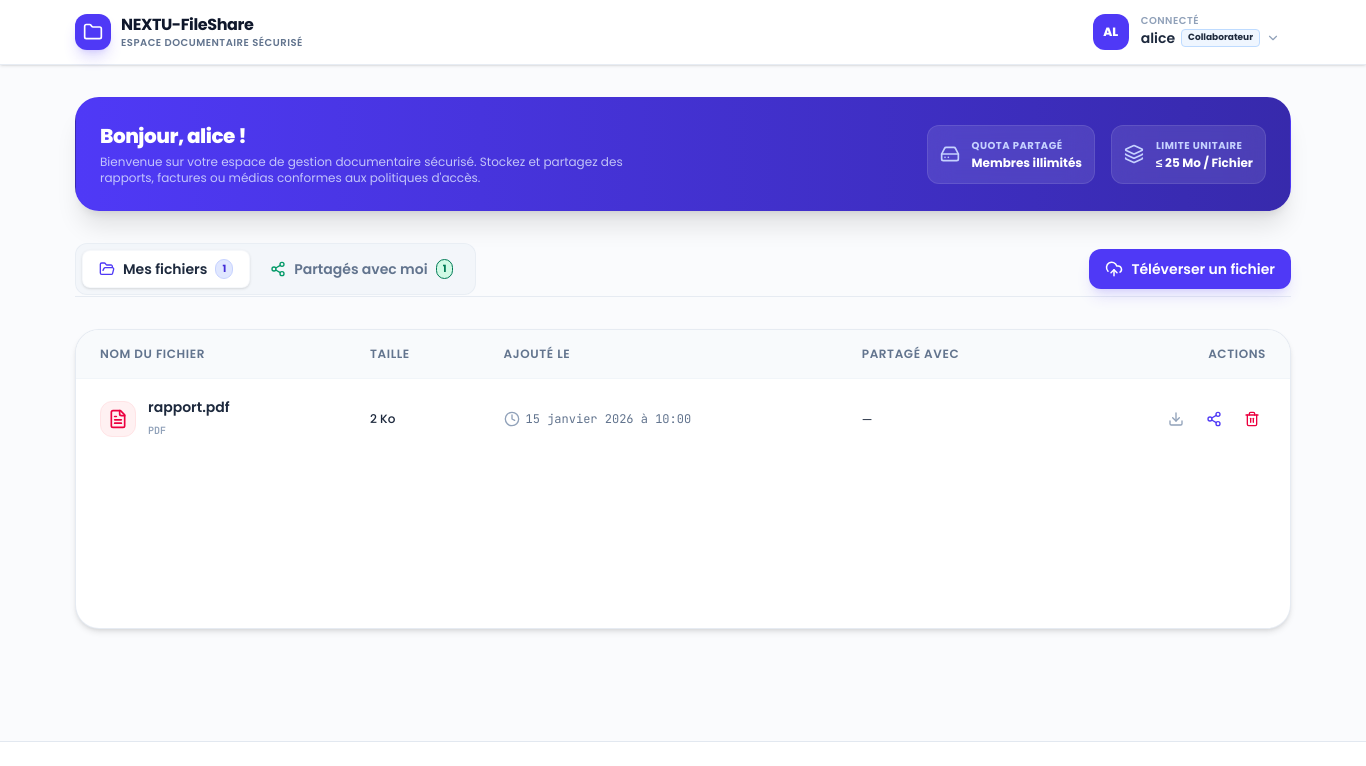
Scenario: Dashboard › switches to shared files tab
Check: the heading "Bonjour, alice !" is shown, box [100,122,246,150]
Click the button "Partagés avec moi 1" at coordinates (362, 269), box [254,250,469,288]
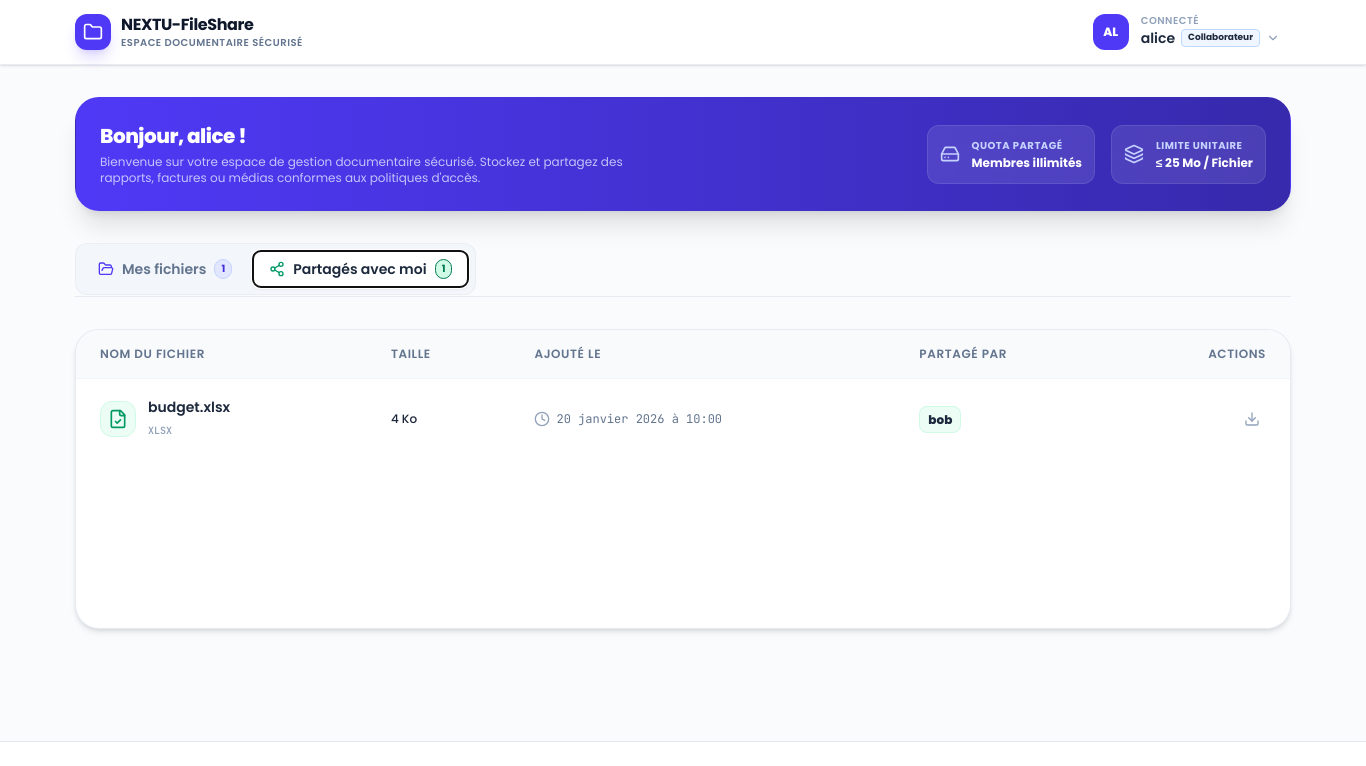
Check: the text "budget.xlsx" is shown, box [148,397,230,417]
Check: the text "bob" is shown, box [919,406,961,433]
